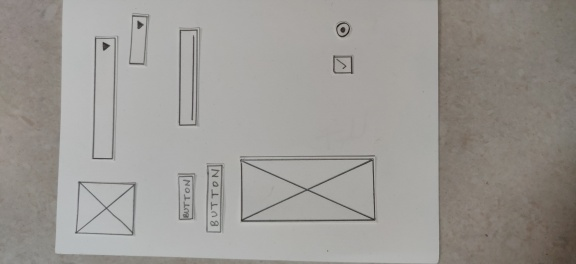button: (203, 162, 224, 236), (176, 170, 197, 224)
checkbox: (330, 52, 356, 77)
dropdown: (91, 33, 117, 162), (126, 12, 152, 68)
img: (237, 154, 379, 224), (74, 178, 140, 238)
radio: (333, 19, 352, 41)
text: (175, 26, 200, 129)
